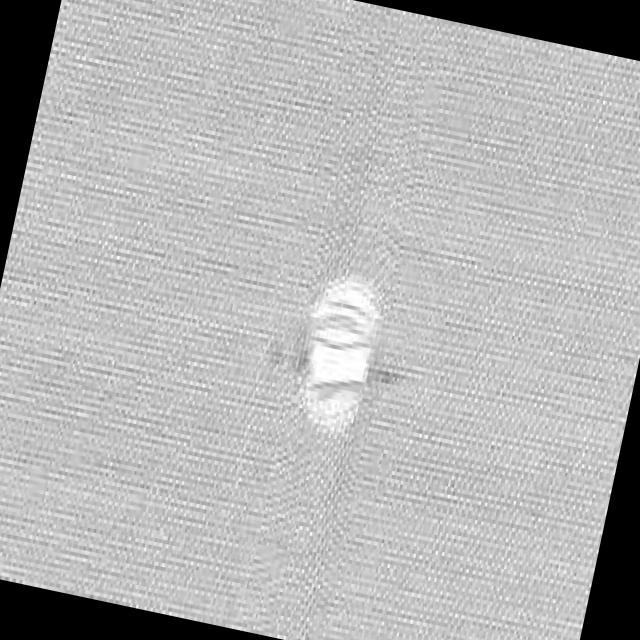cut: (284, 264, 394, 452)
